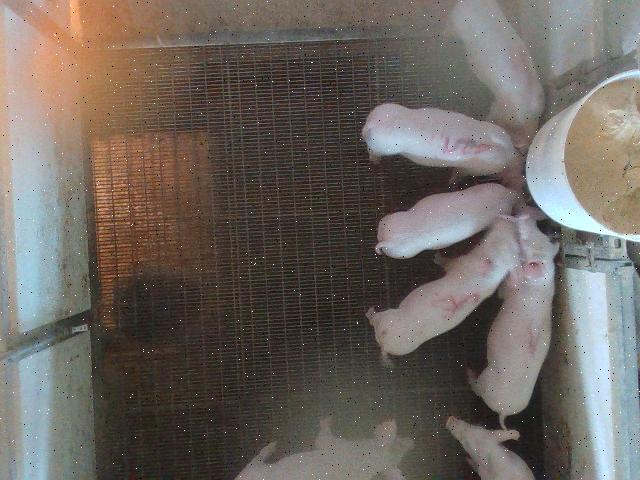pig-1: (470, 216, 559, 429)
pig-3: (362, 104, 519, 175)
pig-4: (451, 1, 545, 152)
pig-5: (366, 219, 521, 354)
